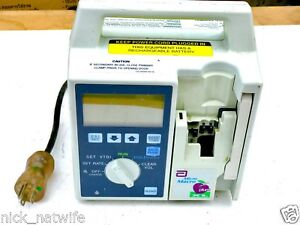plumxl1: (62, 1, 264, 204)
